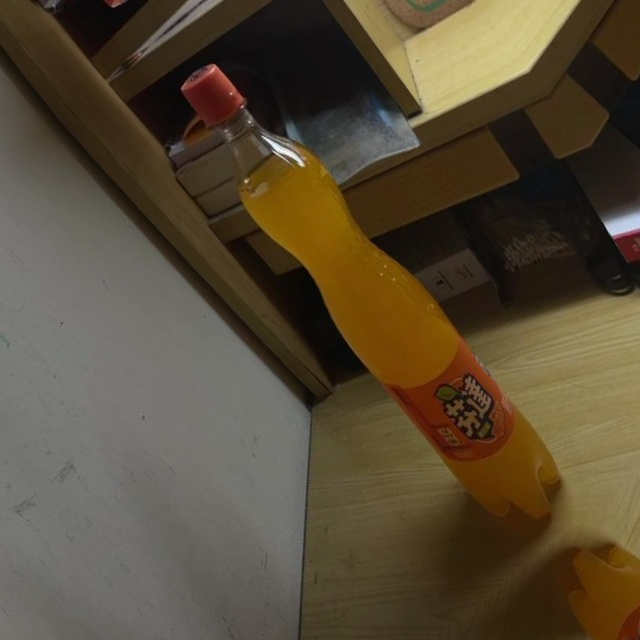Fanta: (150, 48, 586, 542)
